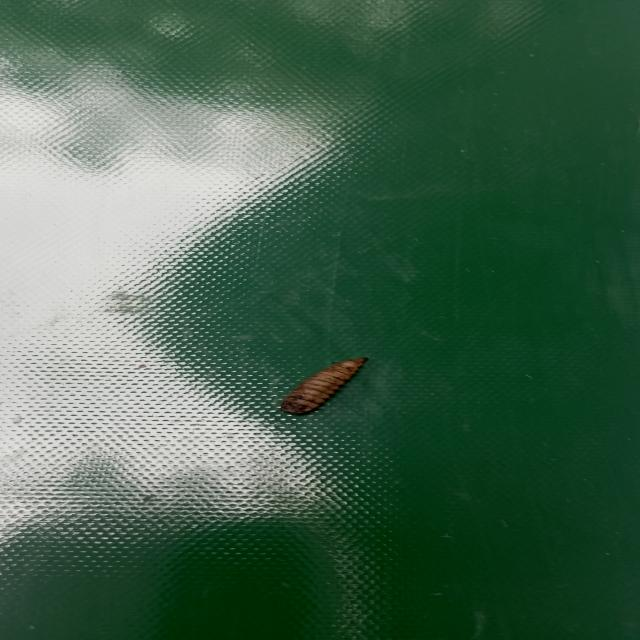Maggot: (280, 357, 367, 417)
